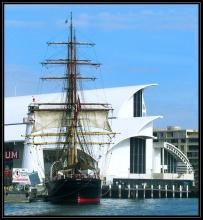fanchuan: (20, 6, 119, 202)
